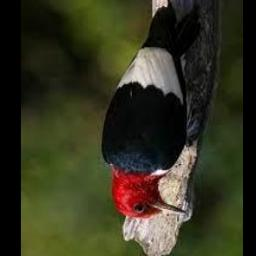Woodpecker: (98, 0, 200, 218)
